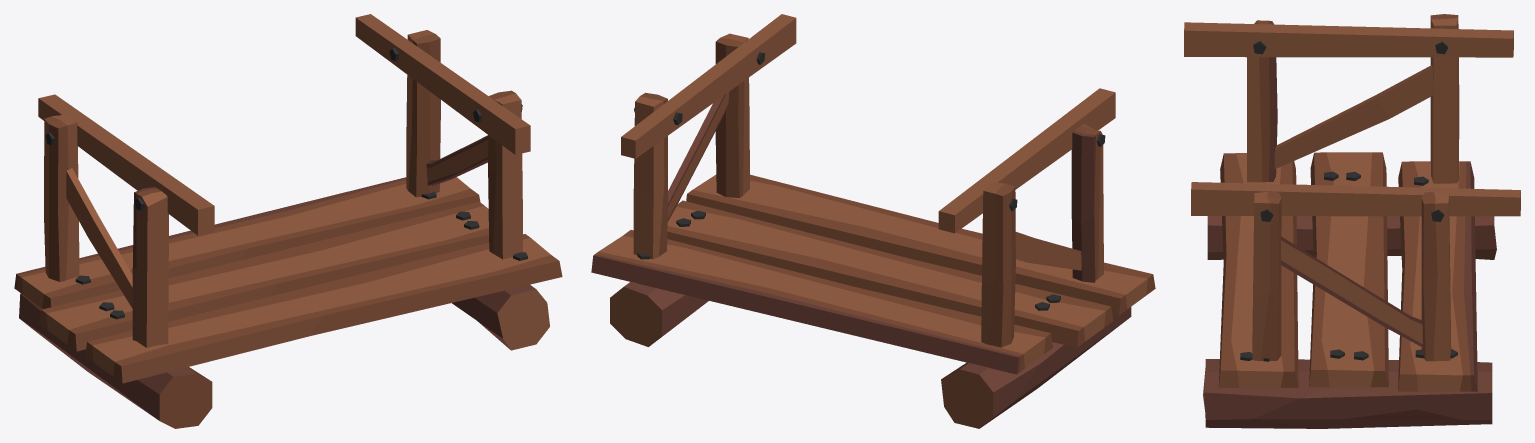
File: bridge_middle.fbx
The picture shows the model from 3 angles, left to right: view 1: azimuth 30°, elevation 25°; view 2: azimuth 150°, elevation 25°; view 3: azimuth 270°, elevation 25°; orthographic projection. The views are drawn at different scales.
Visible parts, largest first — view 1: bridge_middle; view 2: bridge_middle; view 3: bridge_middle.
Boxes of the visible parts, x1,y1,x2,y2 form: bridge_middle: (14,14,562,428); bridge_middle: (591,14,1155,428); bridge_middle: (1184,14,1520,428).
Size of the model in its own units: 130 by 62.88 by 82.81.
